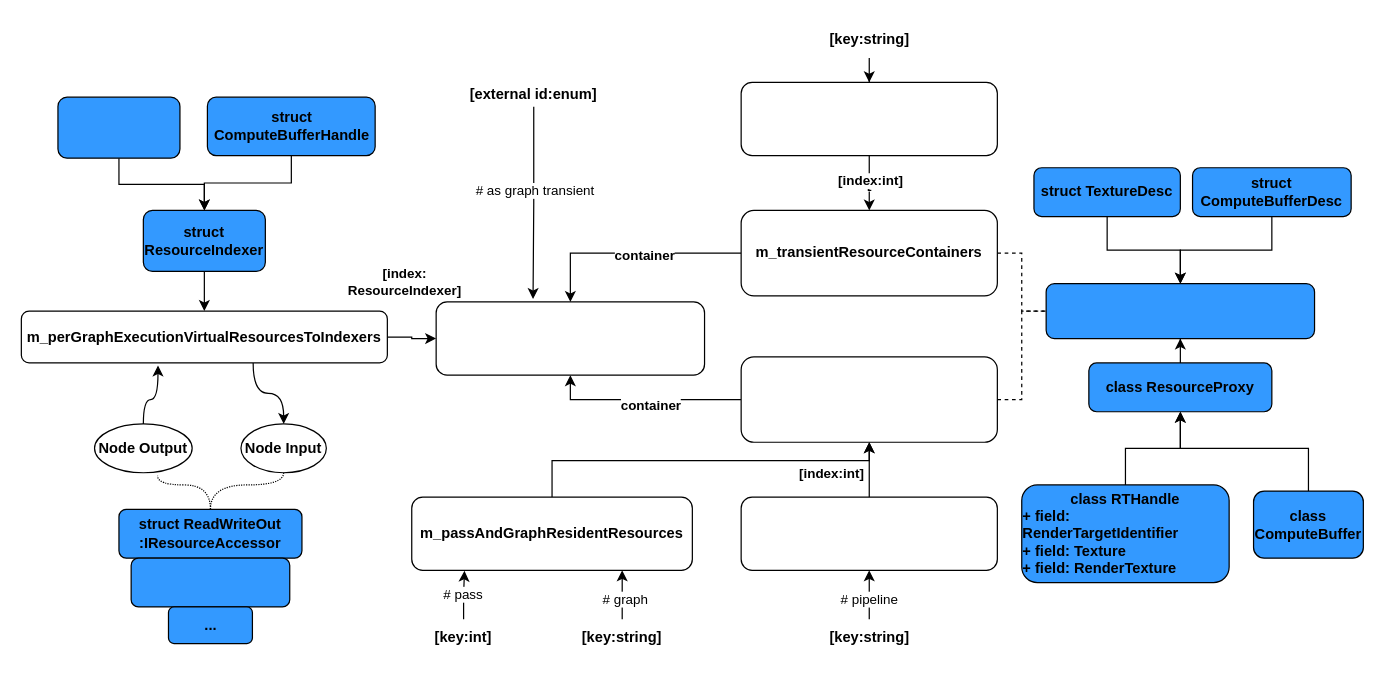
The diagram is 1385 pixels wide and 676 high, and some of its shapes have lost their labels. Each missing label, with the centre of its shape:
"class RenderGraphResourceContainerBase" belongs at point (1180, 310).
"m_pipelineResidentResources" belongs at point (868, 533).
"m_pipelineTransientResources" belongs at point (868, 118).
"m_registeredResourceContainerArray" belongs at point (570, 338).
"m_residentResourceContainers" belongs at point (868, 399).
"struct TextureHandle" belongs at point (118, 127).
"struct WriteInOut :IResourceAccessor" belongs at point (210, 582).
